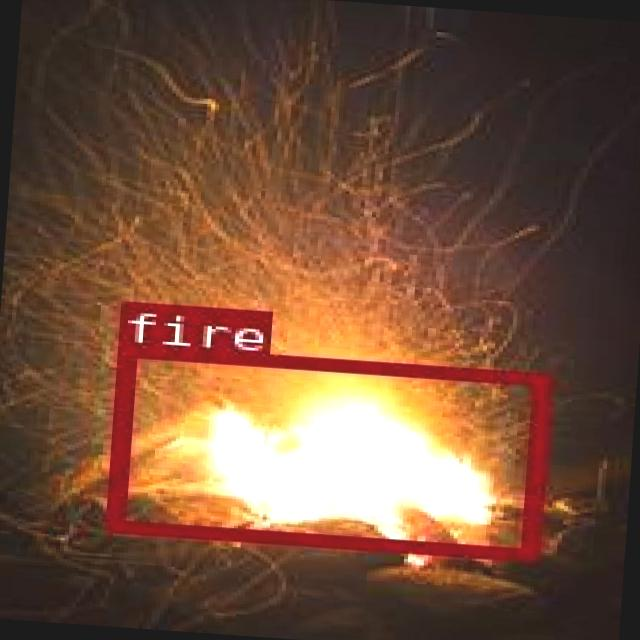fire: (103, 342, 546, 558)
